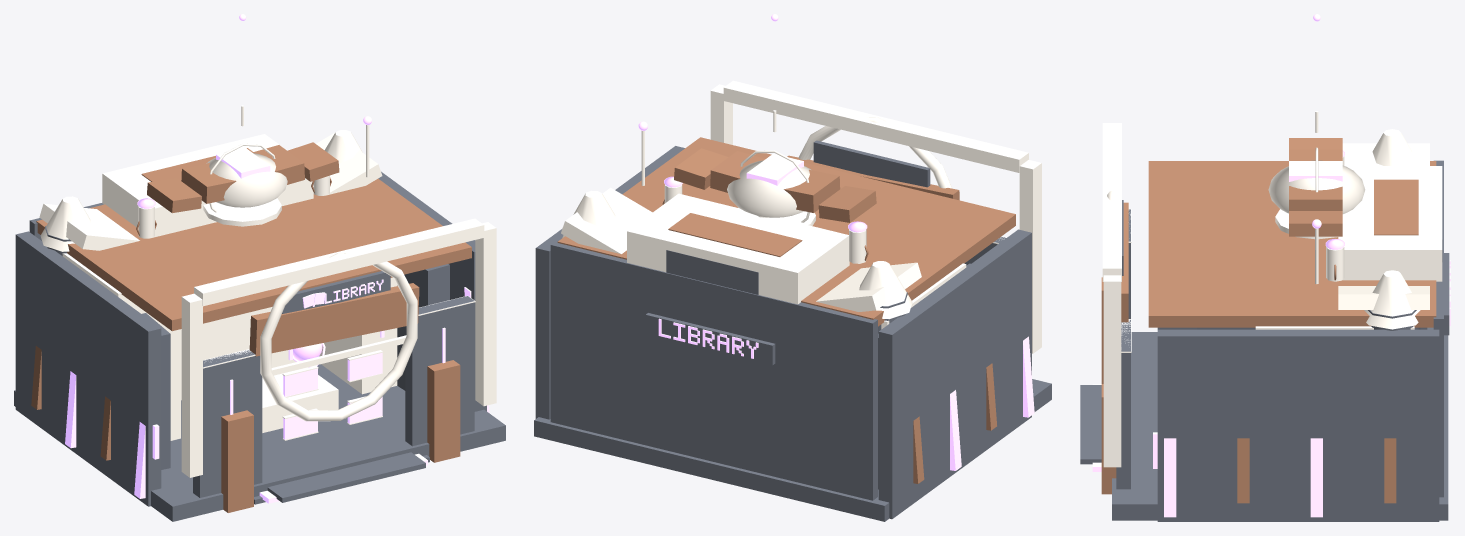
Rendered from library.glb.
The picture shows the model from 3 angles, left to right: view 1: azimuth 30°, elevation 25°; view 2: azimuth 150°, elevation 25°; view 3: azimuth 270°, elevation 25°; orthographic projection. The views are drawn at different scales.
Parts seen in each view (by area): view 1: library:near:surface:0, library:near:surface:3, library:near:surface:2, library:far:surface:0, library:near:surface:1, library:city-identity:great-book; view 2: library:near:surface:0, library:near:surface:3, library:near:surface:2, library:far:surface:0, library:near:surface:1, library:city-identity:great-book; view 3: library:near:surface:0, library:near:surface:3, library:near:surface:2, library:far:surface:0, library:near:surface:1, library:city-identity:great-book.
Part boxes in pixels (x1,y1,x2,y2): library:near:surface:0: [14, 171, 505, 521]; library:near:surface:3: [31, 142, 471, 512]; library:near:surface:2: [39, 105, 496, 477]; library:far:surface:0: [62, 134, 397, 440]; library:near:surface:1: [65, 14, 489, 503]; library:city-identity:great-book: [249, 283, 419, 356]; library:near:surface:0: [534, 140, 1051, 521]; library:near:surface:3: [557, 137, 1015, 483]; library:near:surface:2: [561, 80, 1041, 353]; library:far:surface:0: [627, 193, 966, 329]; library:near:surface:1: [638, 14, 1034, 470]; library:city-identity:great-book: [787, 155, 959, 200]; library:near:surface:0: [1080, 160, 1449, 521]; library:near:surface:3: [1101, 138, 1436, 503]; library:near:surface:2: [1102, 111, 1429, 467]; library:far:surface:0: [1255, 166, 1442, 329]; library:near:surface:1: [1092, 14, 1450, 517]; library:city-identity:great-book: [1121, 202, 1128, 322].
Size of the model in its own units: 16.79 by 18.18 by 14.53.
